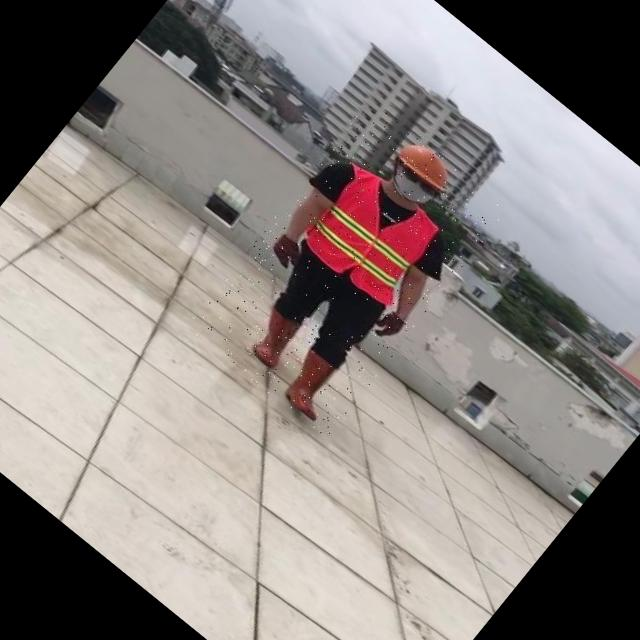hard_hat: (389, 131, 462, 197)
safety_vest: (294, 162, 450, 315)
vehicle: (186, 100, 508, 440)
work_boots: (273, 346, 346, 420), (244, 307, 305, 370)
